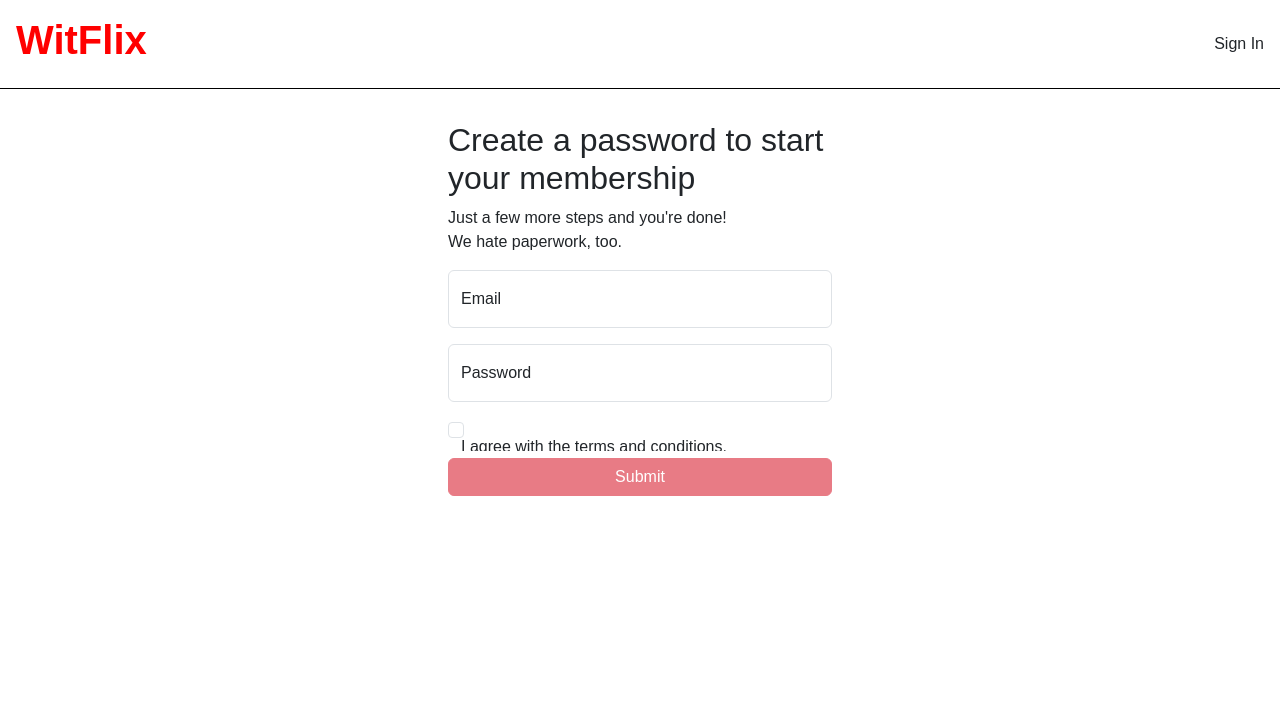
Login From Tests › Fail Tests › 1234 password throws error
This screenshot has width=1280, height=720.
Type "1234" into the password field with test id "password-input" at x=640, y=373, box [448,344,832,402]
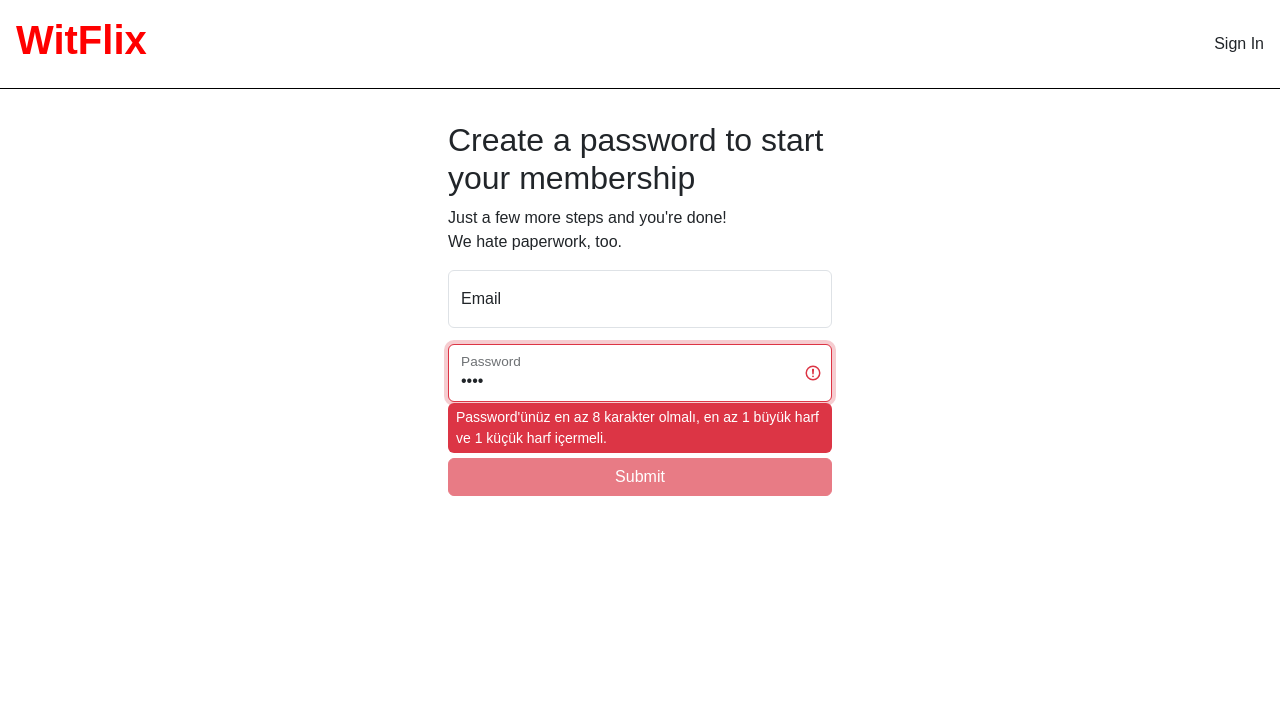
Expected: the text with test id "error" shows "Password'ünüz en az 8 karakter olmalı, en az 1 büyük harf ve 1 küçük harf içermeli.", [456,409,819,446]
